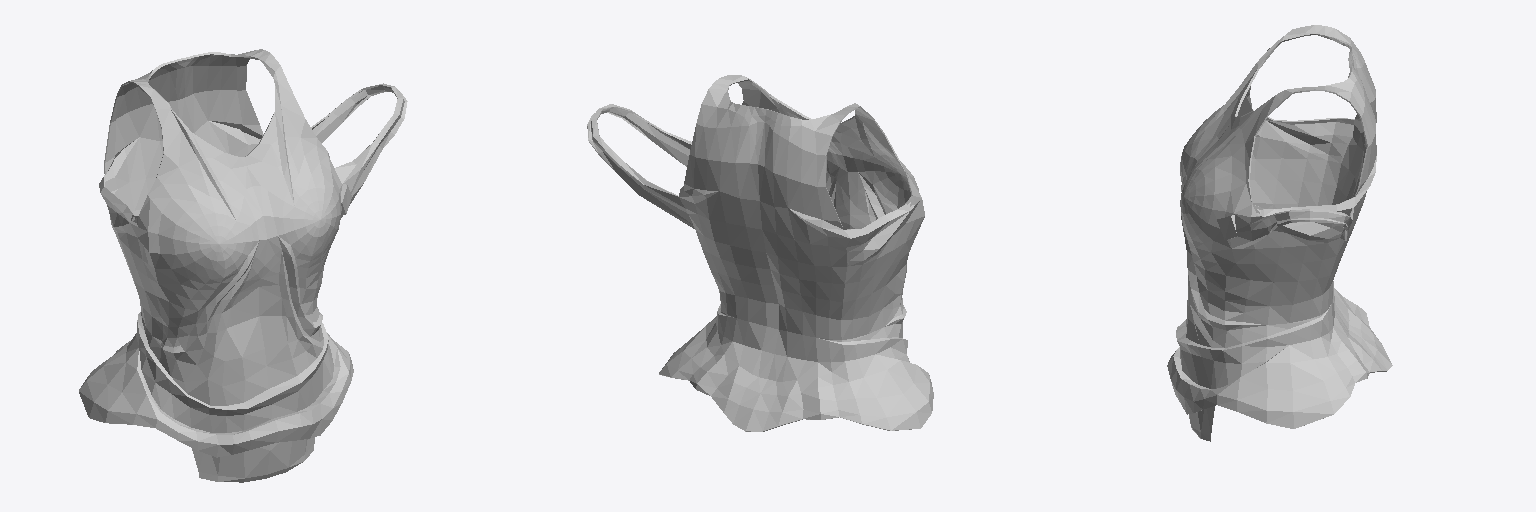
Rendered from clo2.obj.
The picture shows the model from 3 angles: view 1: azimuth 30°, elevation 25°; view 2: azimuth 150°, elevation 25°; view 3: azimuth 270°, elevation 25°; orthographic projection.
Parts seen in each view (by area): view 1: T_Shirt_mtr_G11_V100.049, Emblem_mtr_G11_V100.019; view 2: T_Shirt_mtr_G11_V100.049; view 3: T_Shirt_mtr_G11_V100.049, Emblem_mtr_G11_V100.019.
Part boxes in pixels (x1,y1,x2,y2): T_Shirt_mtr_G11_V100.049: (79,49,407,457); Emblem_mtr_G11_V100.019: (192,437,314,482); T_Shirt_mtr_G11_V100.049: (587,75,933,431); T_Shirt_mtr_G11_V100.049: (1167,25,1392,428); Emblem_mtr_G11_V100.019: (1189,406,1214,441).
Bounding box in the file's own units: 0.3217 × 0.3501 × 0.1964.